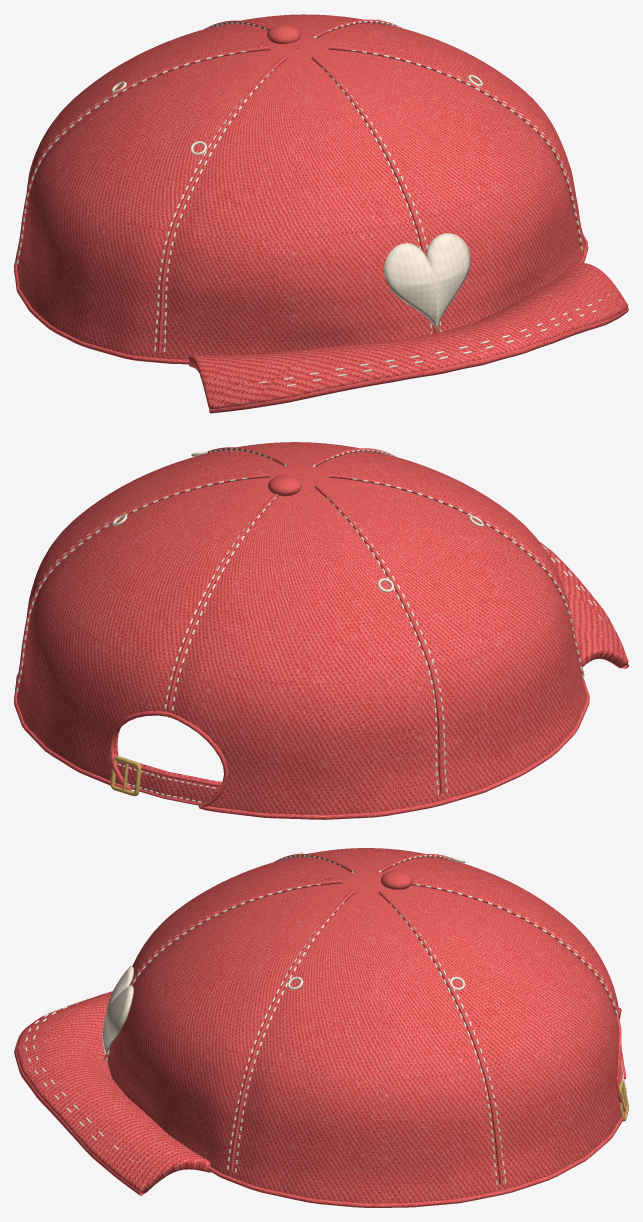
File: restart_cap_pink_penguin.glb
The picture shows the model from 3 angles, top to bottom: view 1: azimuth 30°, elevation 25°; view 2: azimuth 150°, elevation 25°; view 3: azimuth 270°, elevation 25°; orthographic projection. The views are drawn at different scales.
Parts seen in each view (by area): view 1: Gorra corazón - algodón cosido original; view 2: Gorra corazón - algodón cosido original; view 3: Gorra corazón - algodón cosido original.
Part boxes in pixels (box(x1,y1,x2,y2)): Gorra corazón - algodón cosido original: box(14, 14, 628, 413); Gorra corazón - algodón cosido original: box(14, 442, 628, 819); Gorra corazón - algodón cosido original: box(14, 848, 628, 1207).
Size of the model in its own units: 0.6566 by 0.2969 by 0.7302.
Materials: 4 (2 with a texture image).
